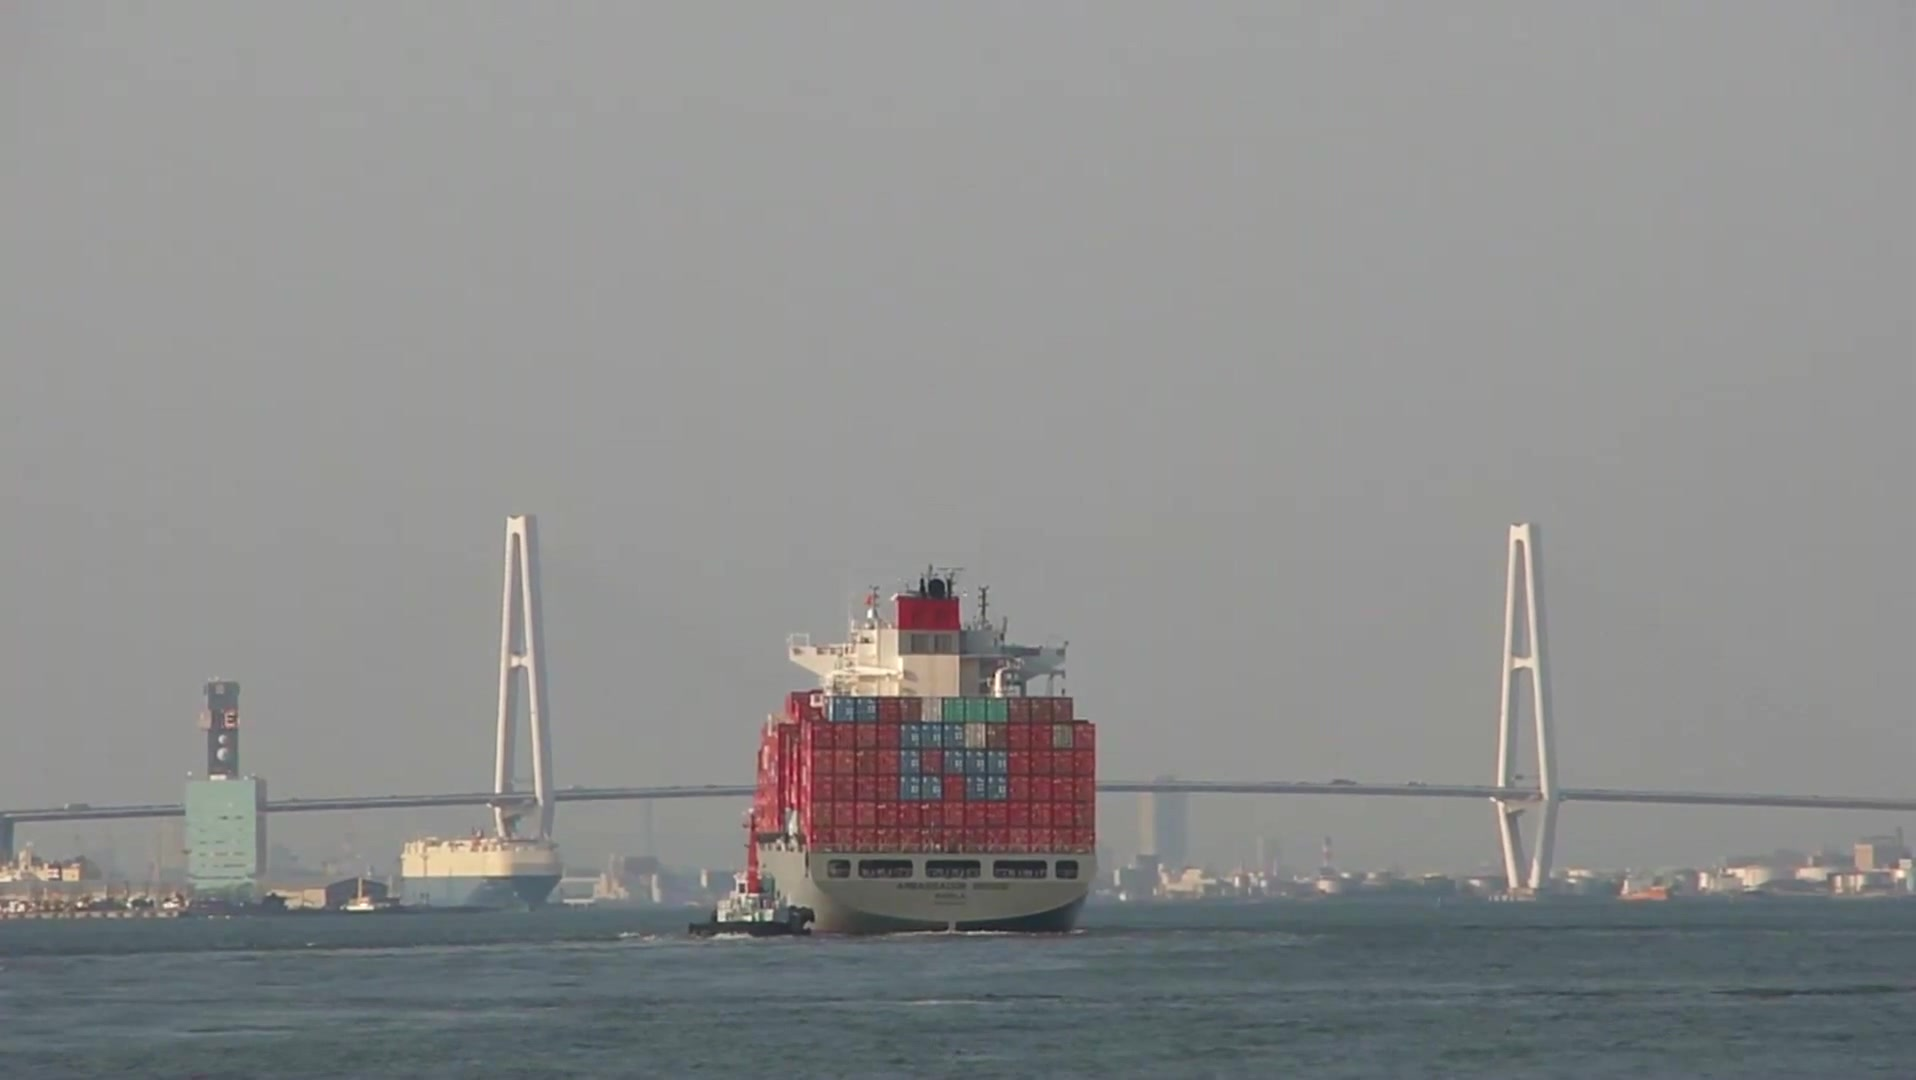boat: (744, 577, 1107, 945), (390, 826, 572, 918), (547, 841, 707, 945), (693, 862, 822, 946)
